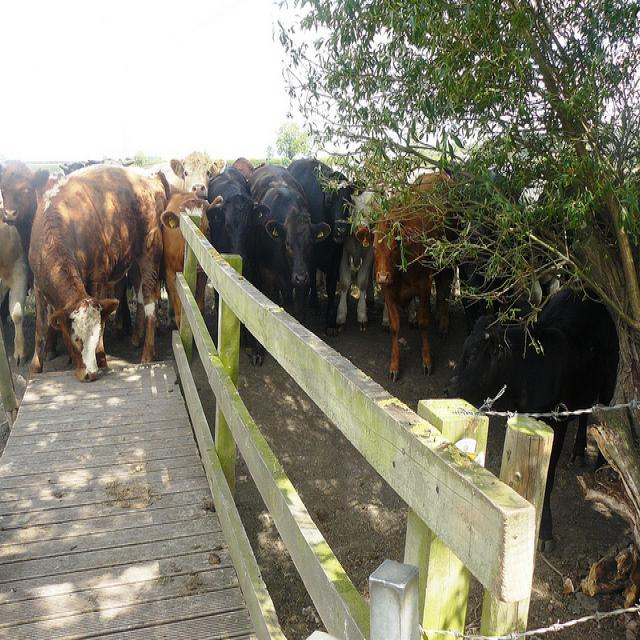cow: (442, 284, 618, 547), (27, 160, 170, 383), (360, 167, 462, 377), (247, 161, 329, 323), (285, 156, 364, 324), (163, 183, 221, 329), (204, 165, 268, 264), (0, 164, 54, 241), (167, 148, 225, 196)
